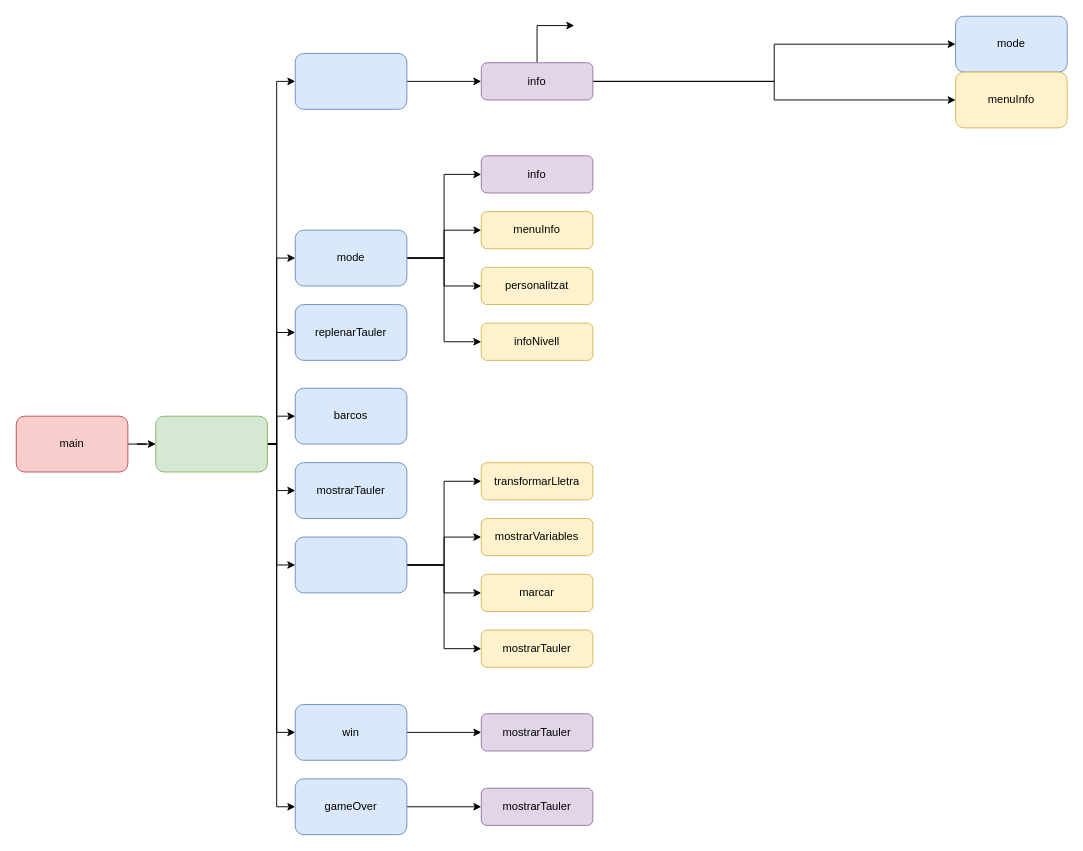
Some shapes in this 1083 by 851 pixel diagram are drawn without their labels. The shapes that lost their labels are listed below. From the top down, each one's centre as x and y in pixels, then its label:
the point at 350,81: menu
the point at 211,443: jugar
the point at 350,564: preguntar
